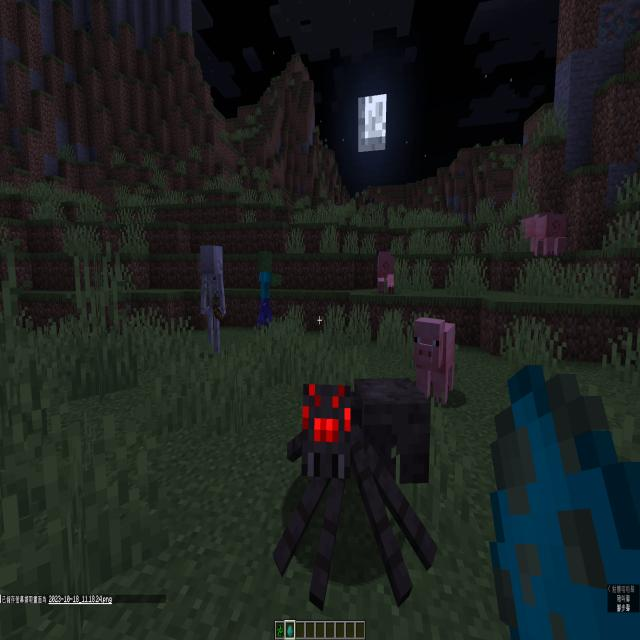Skeleton: (194, 233, 228, 365)
Spider: (275, 362, 441, 626)
Zombie: (250, 250, 276, 334)
pig: (408, 309, 460, 409), (536, 201, 568, 262), (371, 242, 400, 304), (512, 205, 535, 261)
